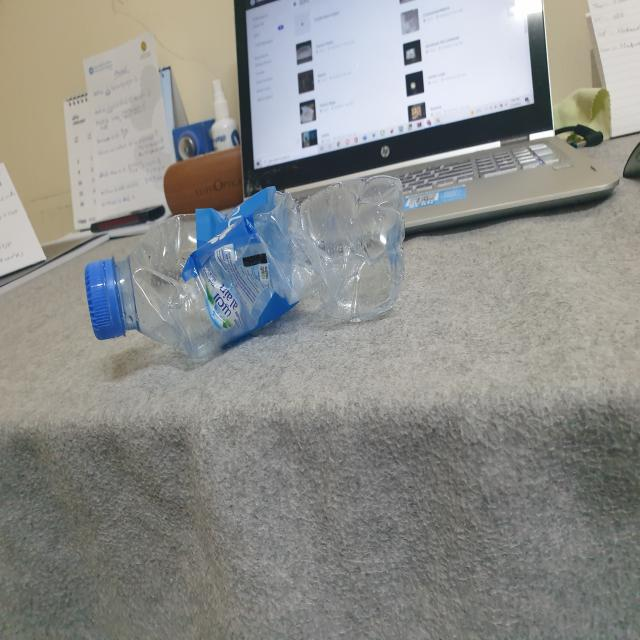bottle: (82, 172, 404, 365)
